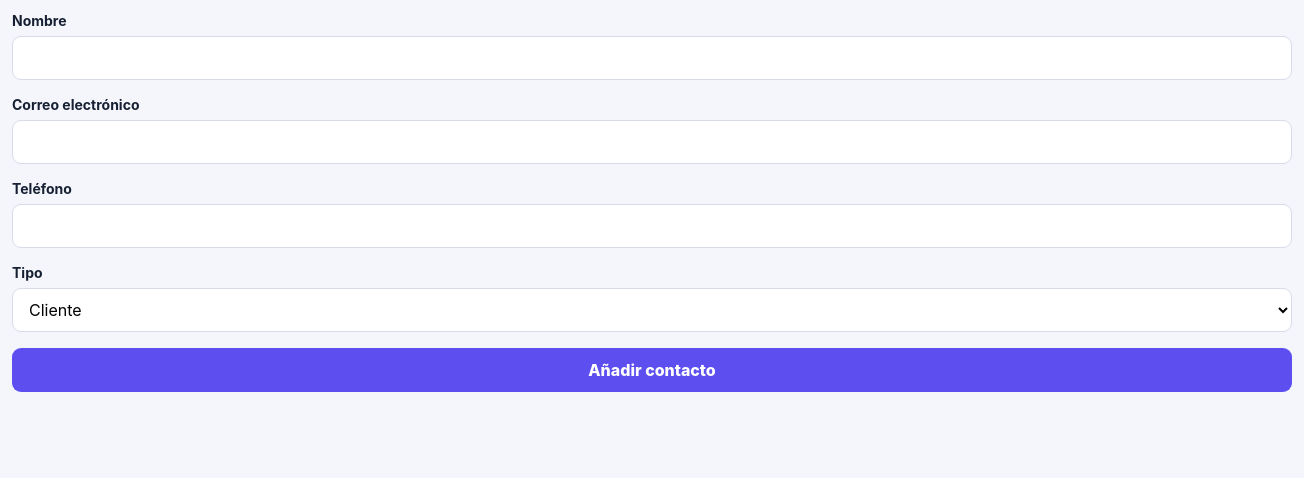
ContactForm › muestra los errores al enviar el formulario vacío
This screenshot has width=1304, height=478.
Click the button "Añadir contacto": point(652, 370) [12,348,1292,392]
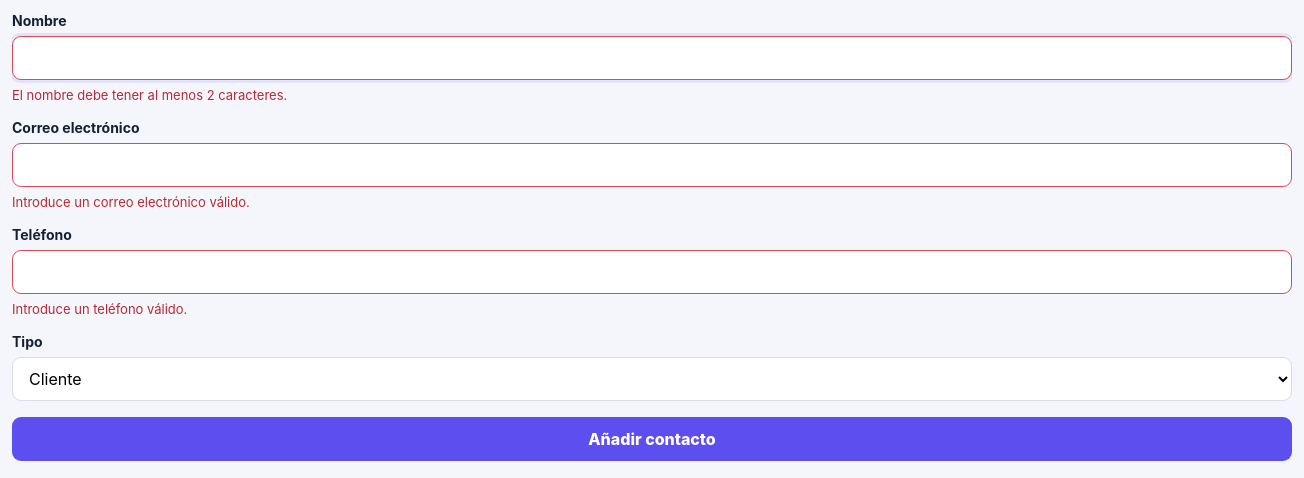
Expected: the text "El nombre debe tener al menos 2 caracteres." is shown, [12,87,287,103]
Expected: the text "Introduce un correo electrónico válido." is shown, [12,194,250,210]
Expected: the text "Introduce un teléfono válido." is shown, [12,301,187,317]
